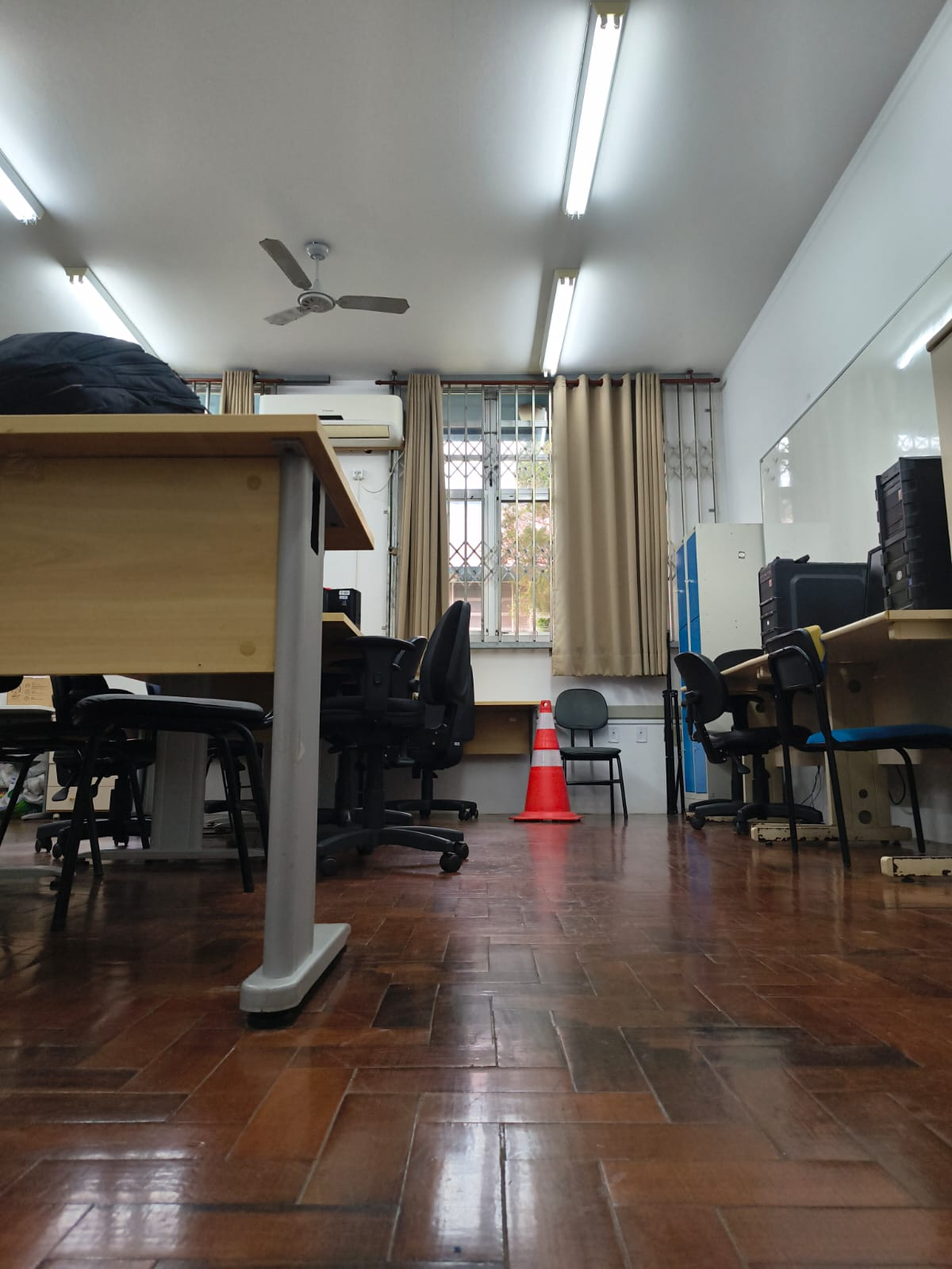cone: (508, 701, 584, 830)
